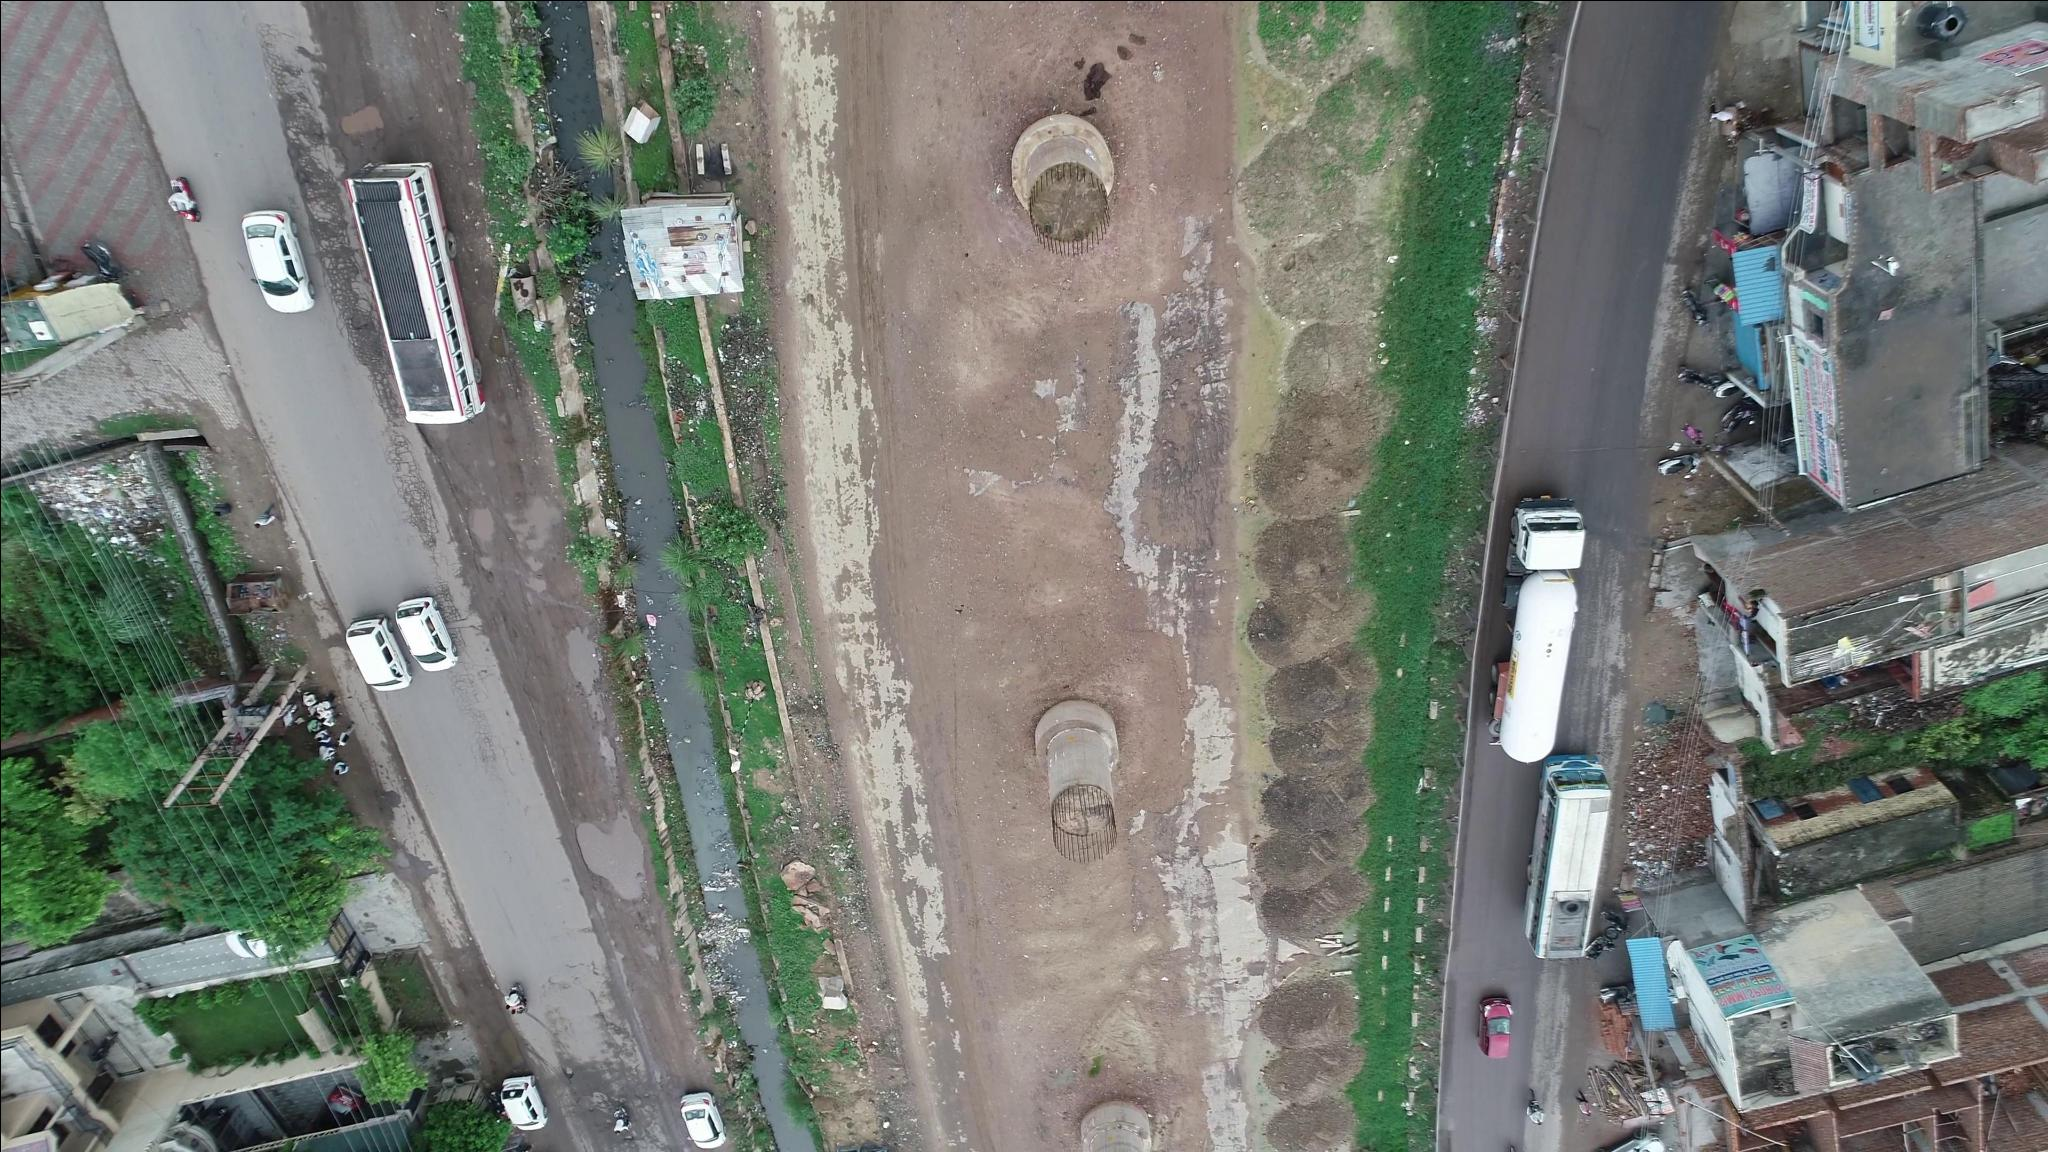Cracks: (378, 432, 450, 565)
Potholes: (266, 141, 326, 204)
